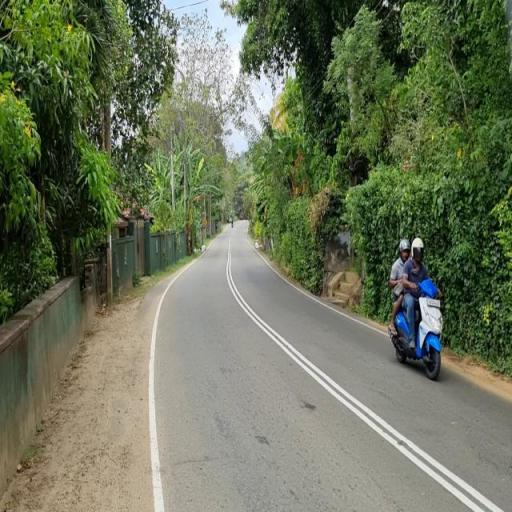double_white_line: (228, 237, 506, 512)
